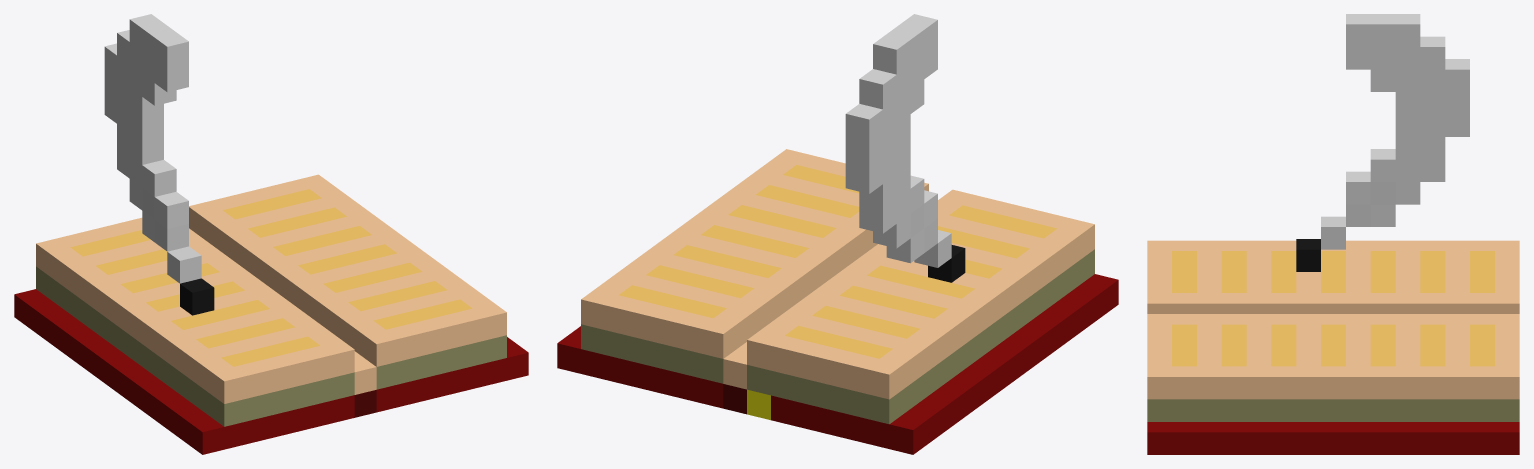
The model's file is book_feather.obj.
The picture shows the model from 3 angles, left to right: view 1: azimuth 30°, elevation 25°; view 2: azimuth 150°, elevation 25°; view 3: azimuth 270°, elevation 25°; orthographic projection. The views are drawn at different scales.
Parts seen in each view (by area): view 1: book_feather; view 2: book_feather; view 3: book_feather.
Boxes of the visible parts, x1,y1,x2,y2 form: book_feather: (14,14,528,454); book_feather: (557,14,1118,454); book_feather: (1147,14,1519,454).
Size of the model in its own units: 1.5 by 1.4 by 1.5.
Materials: 1 (1 with a texture image).
